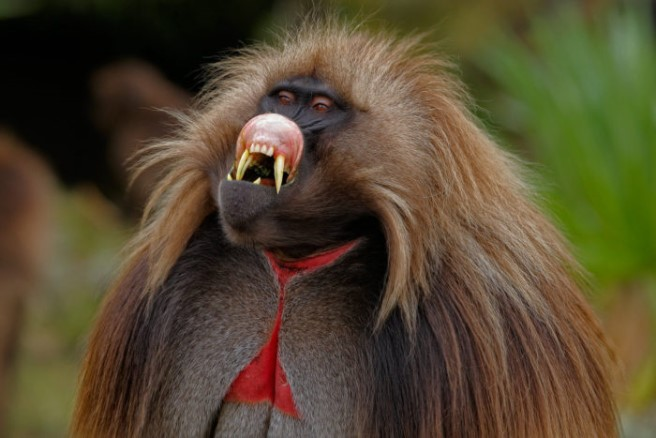Gelada: (147, 40, 552, 436)
